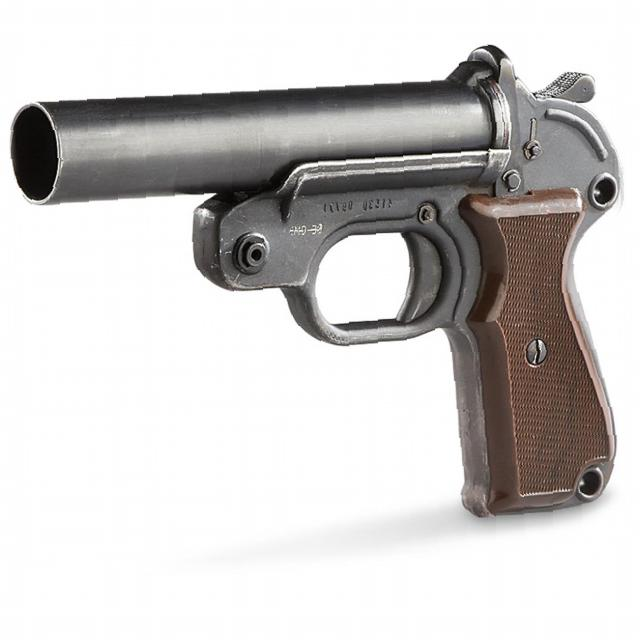gun: (10, 34, 631, 560)
